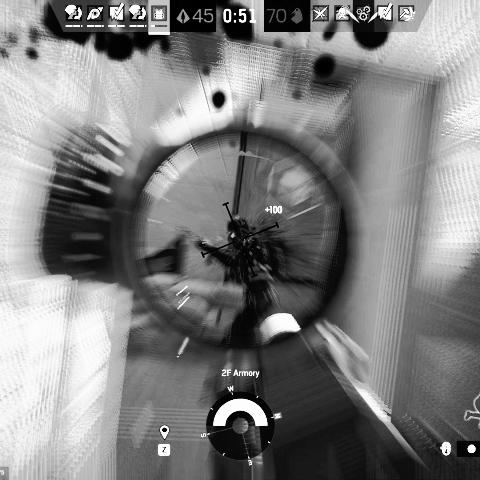Character: (190, 215, 286, 350)
Head: (225, 215, 252, 243)
